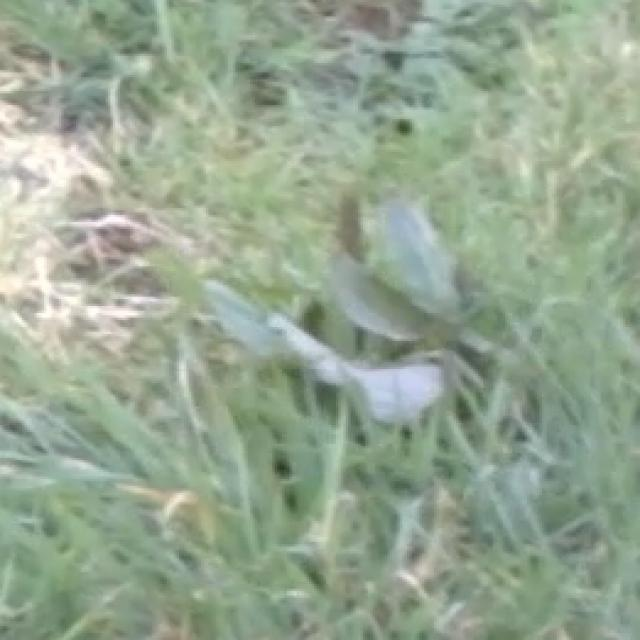organic waste: (168, 175, 512, 457)
